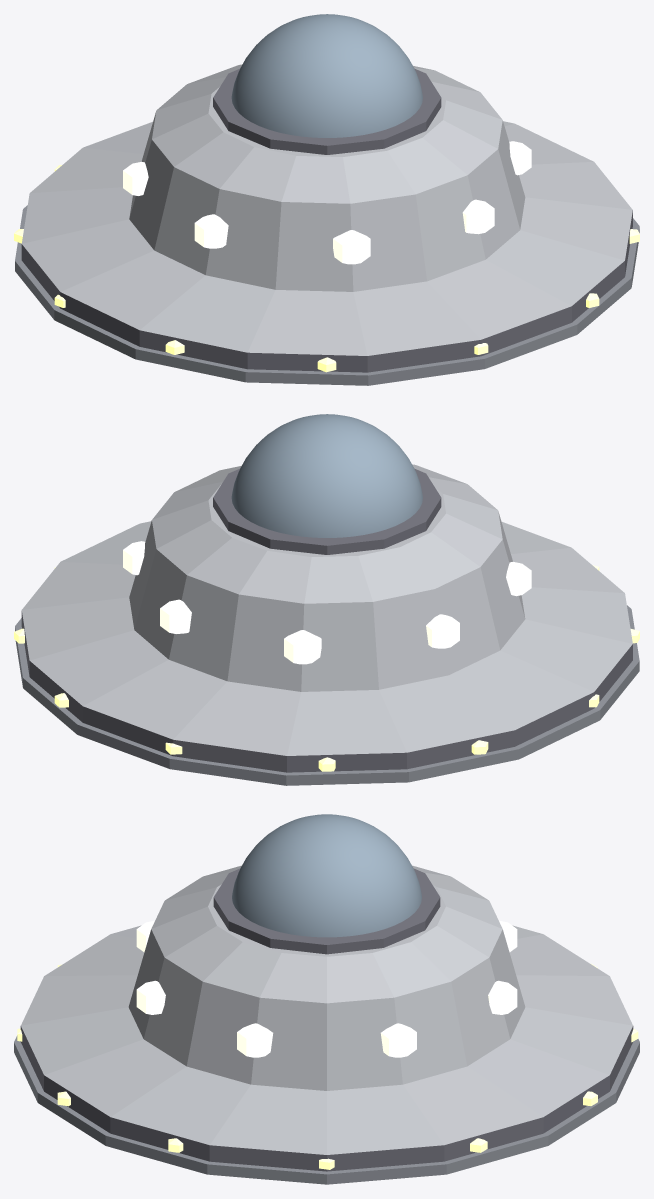
The model's file is bell.glb.
The picture shows the model from 3 angles, top to bottom: view 1: azimuth 30°, elevation 25°; view 2: azimuth 150°, elevation 25°; view 3: azimuth 270°, elevation 25°; orthographic projection.
Visible parts, largest first — view 1: bell, dome.005; view 2: bell, dome.005; view 3: bell, dome.005.
Boxes of the visible parts, left/top/right/bottom form: bell: left=14, top=64, right=639, bottom=385; dome.005: left=231, top=14, right=422, bottom=137; bell: left=14, top=464, right=639, bottom=785; dome.005: left=231, top=414, right=422, bottom=537; bell: left=14, top=865, right=639, bottom=1184; dome.005: left=232, top=814, right=421, bottom=937.
Bounding box in the file's own units: 5.52 × 2.88 × 5.52.
